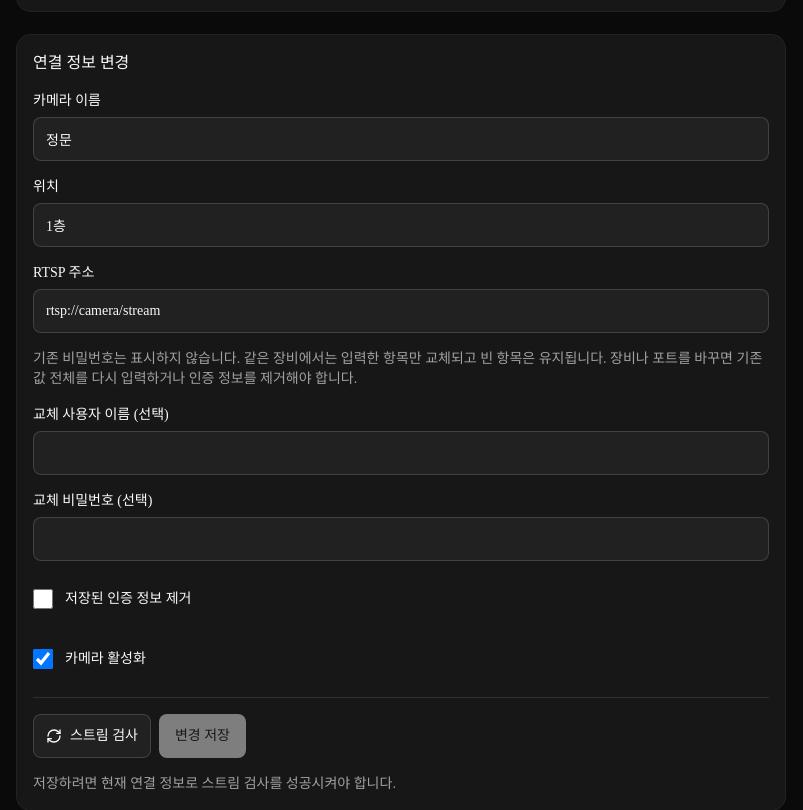
Test case: CameraConnectionEditor › reports that the previous settings were restored when runtime application fails
This screenshot has width=803, height=810.
(page scrolled)
Click the button "스트림 검사". click: (92, 736)
box: [33,714,151,758]
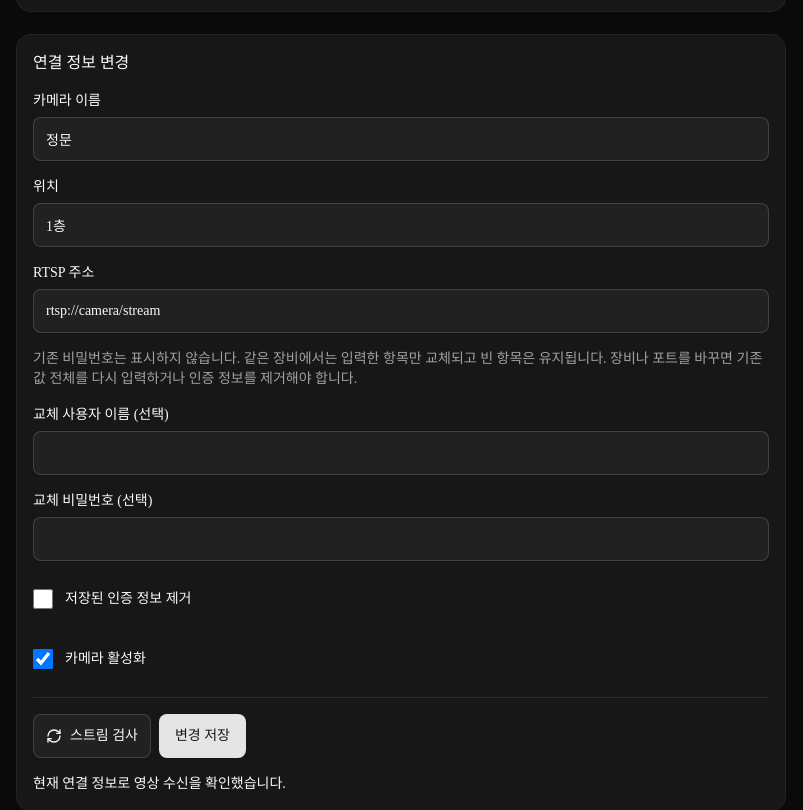
Click the button "변경 저장". click: (202, 736)
box: [159,714,246,758]
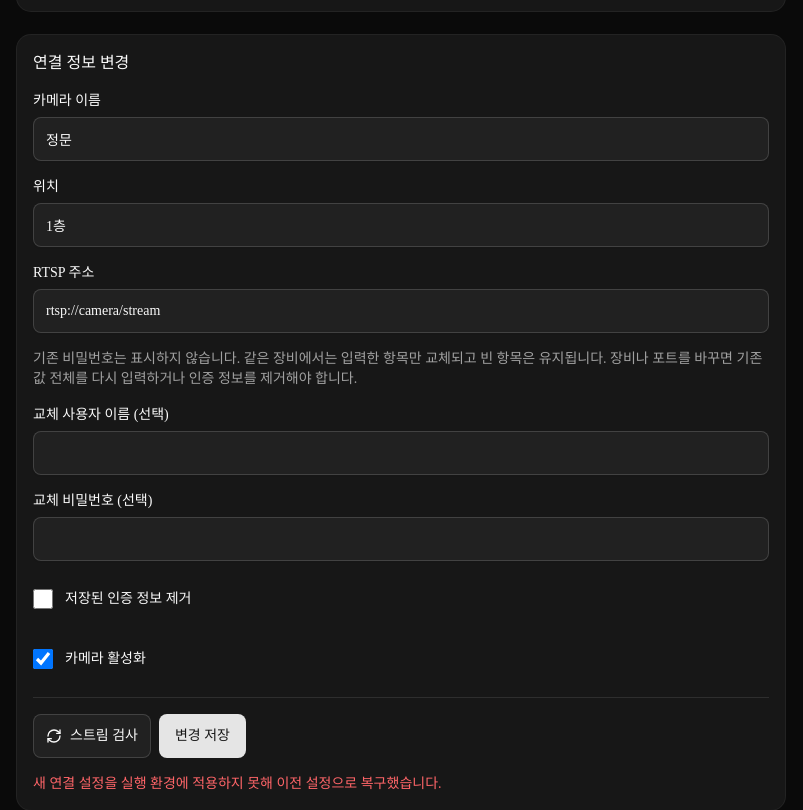
Check: the message shows "이전 설정으로 복구했습니다", box [33,776,442,791]
